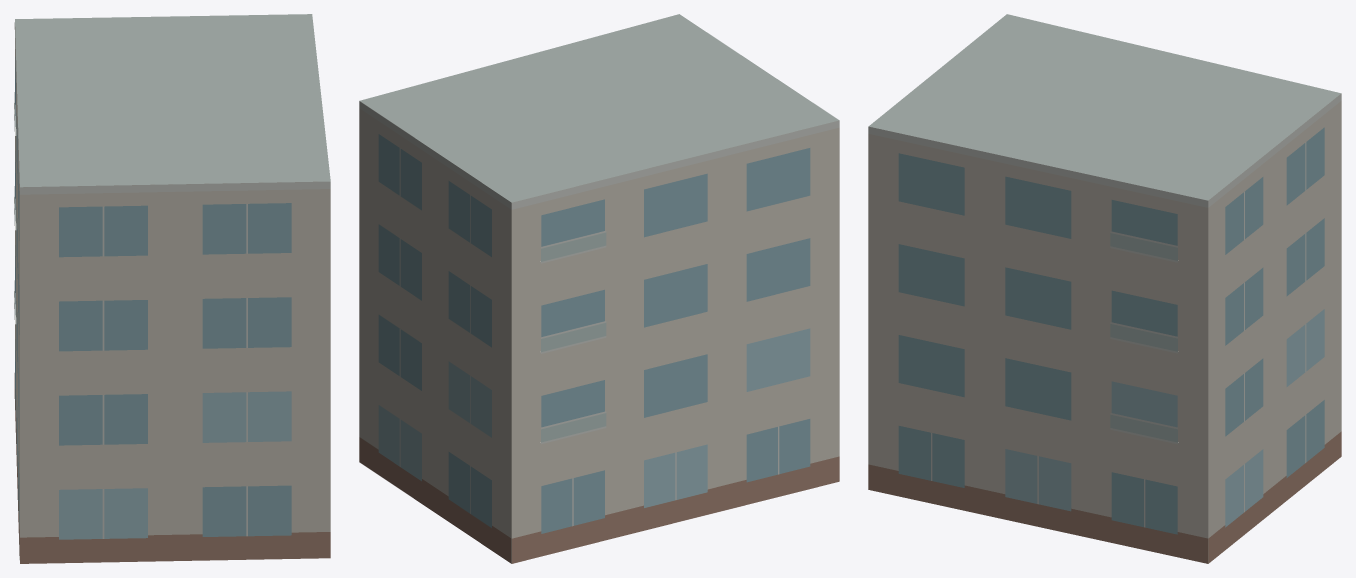
The model's file is survey-upis-32682628.glb.
3 views of the same model, side by side, from view 1: azimuth 30°, elevation 25°; view 2: azimuth 150°, elevation 25°; view 3: azimuth 270°, elevation 25° (orthographic). The views are drawn at different scales.
Visible parts, largest first — view 1: survey-upis-32682628.tmp; view 2: survey-upis-32682628.tmp; view 3: survey-upis-32682628.tmp.
Boxes of the visible parts, x1,y1,x2,y2 form: survey-upis-32682628.tmp: [14, 14, 330, 563]; survey-upis-32682628.tmp: [359, 14, 839, 563]; survey-upis-32682628.tmp: [868, 14, 1341, 563].
Bounding box in the file's own units: 13.51 × 12.25 × 14.47.
